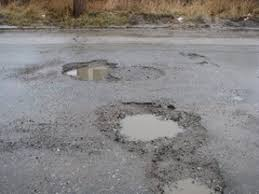pothole: (95, 103, 191, 143), (150, 153, 225, 193), (61, 57, 124, 80), (126, 63, 166, 80)
